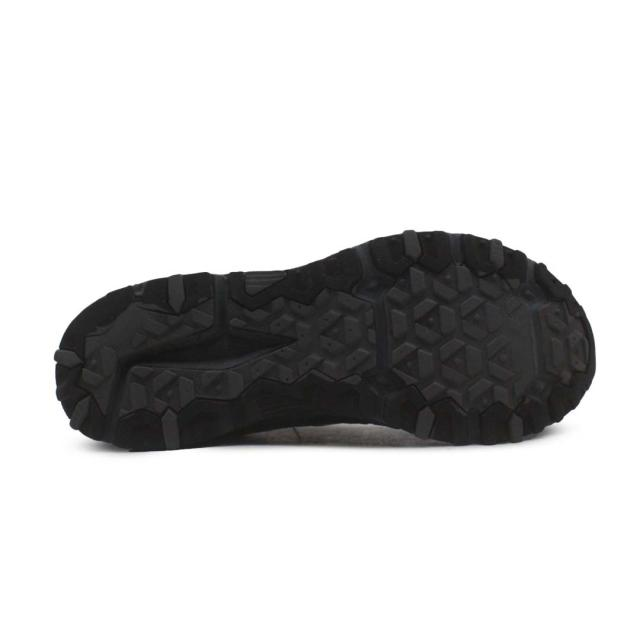outersole: (56, 231, 594, 451)
